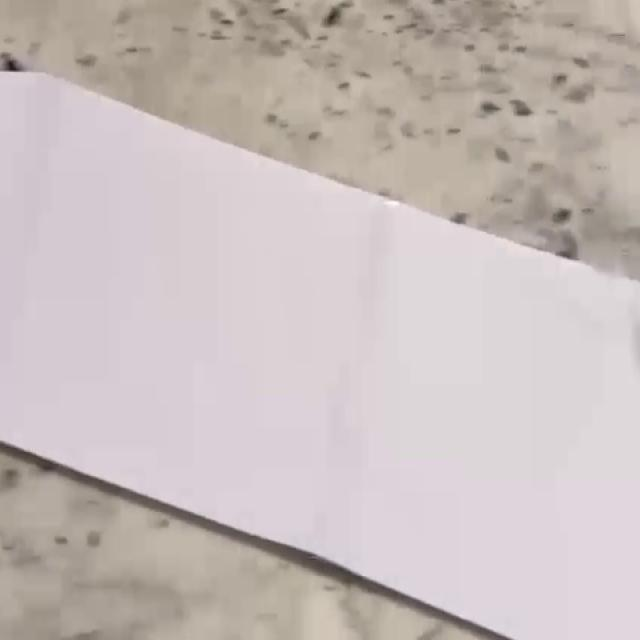road: (0, 72, 640, 636)
